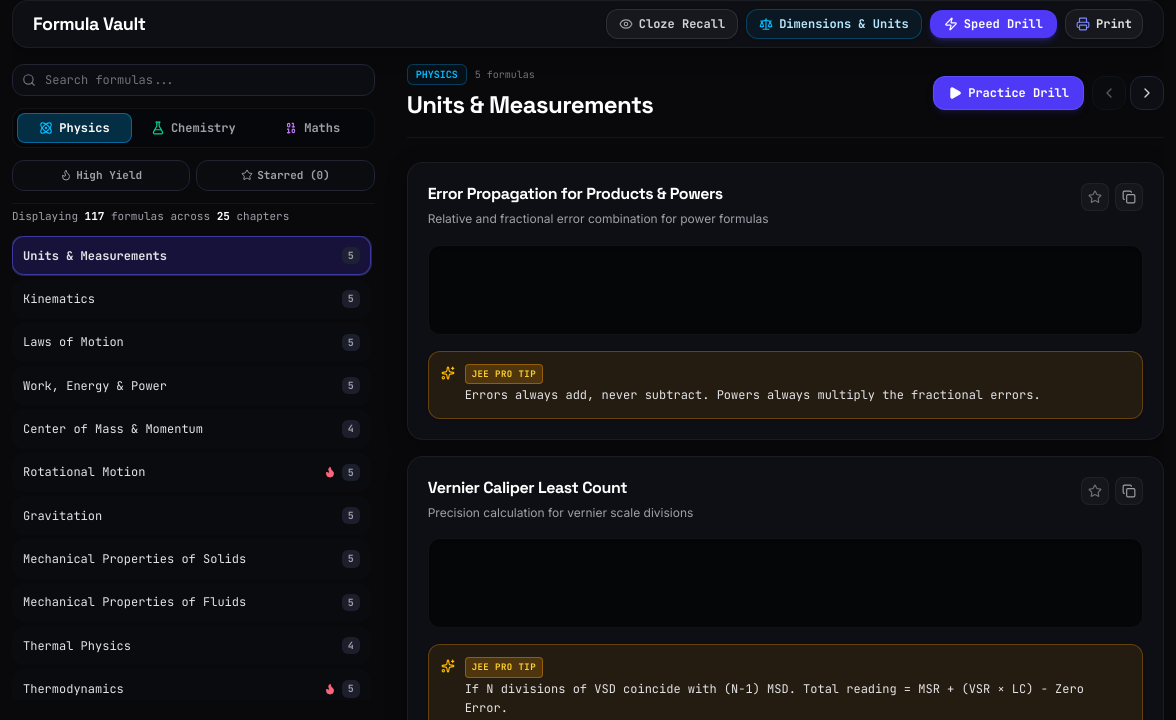
Test: FormulaVaultPage Feature View (Magnitude 5.1) › switches subject tabs to filter formula repository and isolates chapters
The image size is (1176, 720).
Expected: the heading "Units & Measurements" is shown, [407,89,653,121]
Expected: the heading "Some Basic Concepts of Chemistry" is not shown
Switch to Chemistry
Step 1. Click the button "Chemistry" → (193, 128), box [136,113,251,143]
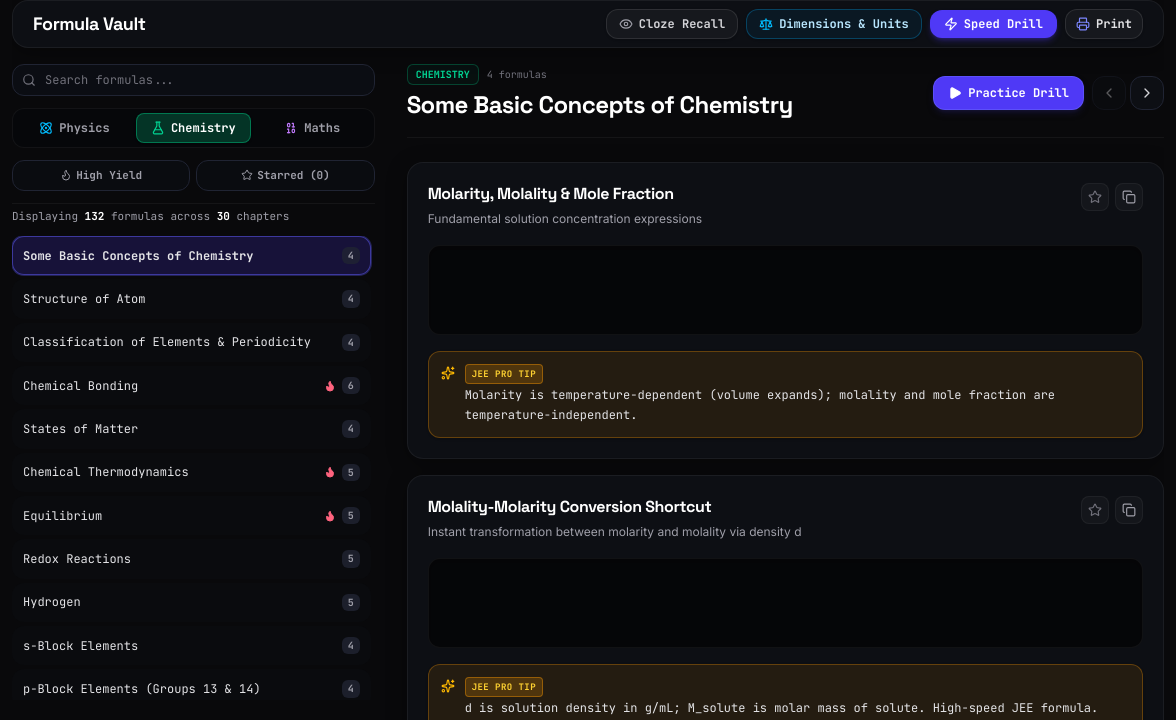
Expected: the text "Displaying 132 formulas across 30 chapters" is shown, [12,208,289,224]
Result: the heading "Some Basic Concepts of Chemistry" is shown at [407,89,793,121]
Result: the tab "Units & Measurements" is gone
Switch to Maths
Step 2. Click the button "Maths" → (312, 128), box [255,113,370,143]
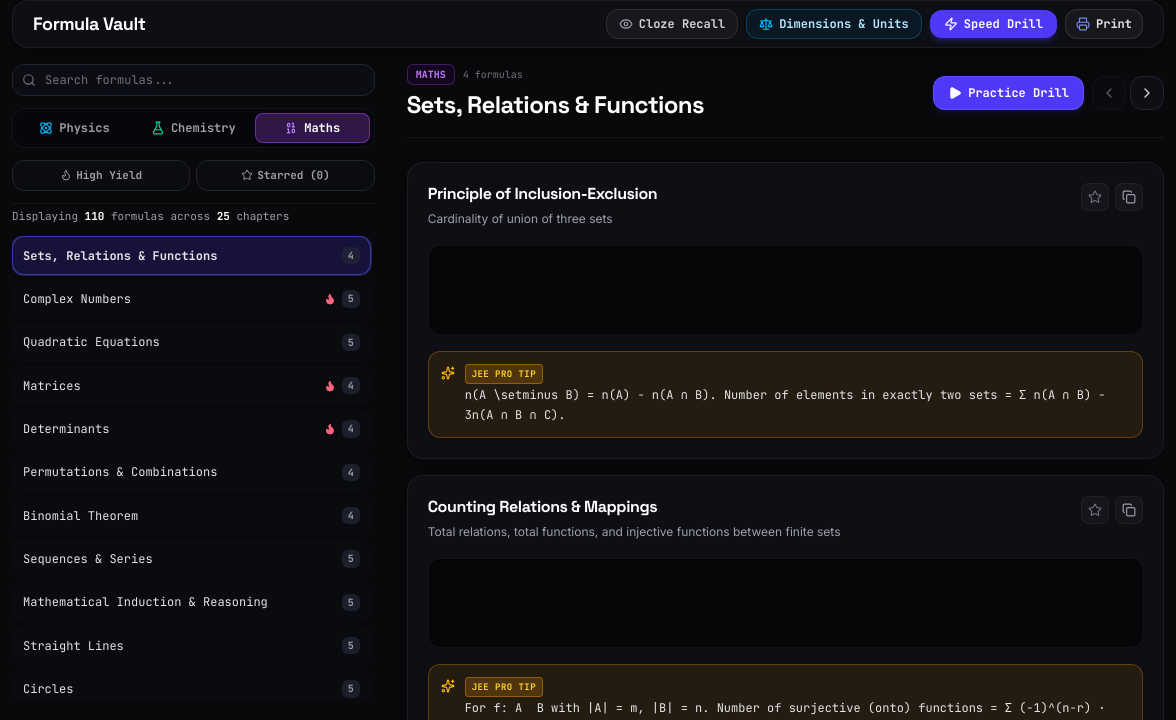
Expected: the text "Displaying 110 formulas across 25 chapters" is shown, [12,208,289,224]
Result: the heading "Sets, Relations & Functions" is shown at [407,89,704,121]
Result: the tab "Some Basic Concepts of Chemistry" is gone
